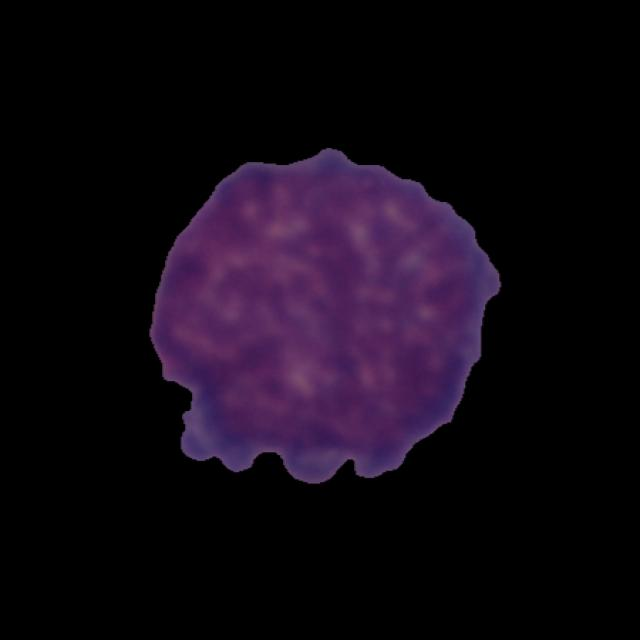ALL Negative Cells: (147, 148, 495, 482)
